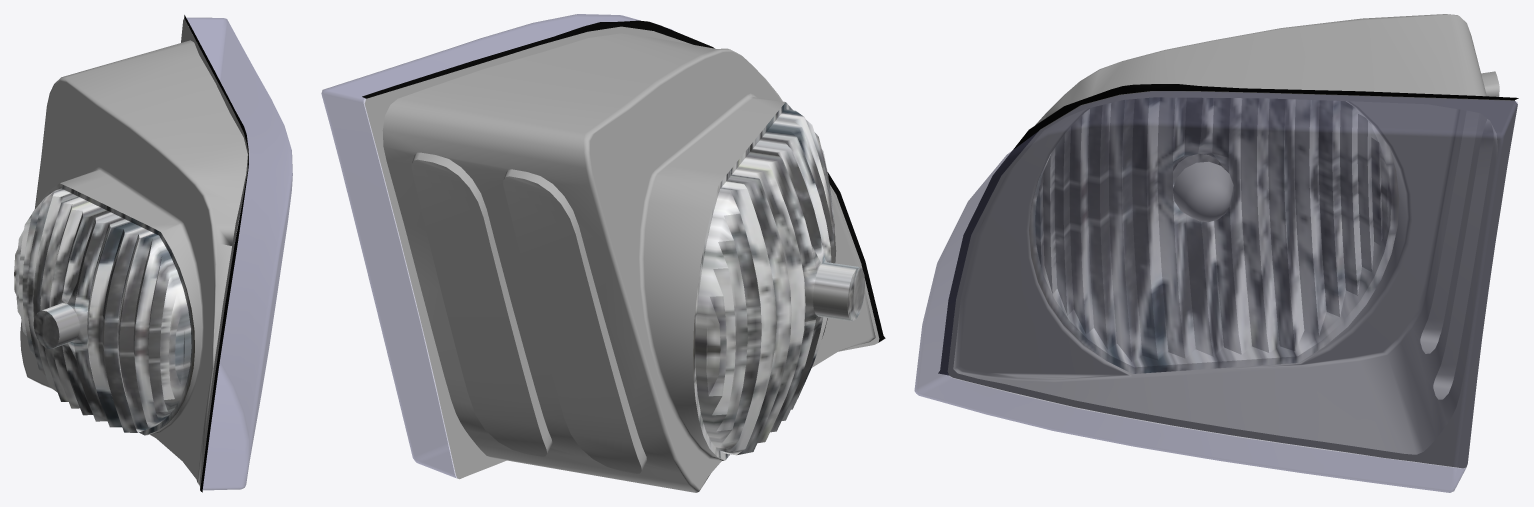
3 views of the same model, side by side, from view 1: azimuth 30°, elevation 25°; view 2: azimuth 150°, elevation 25°; view 3: azimuth 270°, elevation 25° (orthographic). The views are drawn at different scales.
Visible parts, largest first — view 1: P222_15_061B_R_P222_15_061B_R_2_N, P222_15_061B_R_P222_15_061B_R_3_N, P222_15_061B_R_1_DTaSI_P222_15_061B_R, P222_15_061B_R_P222_15_061B_R_5_D; view 2: P222_15_061B_R_P222_15_061B_R_2_N, P222_15_061B_R_P222_15_061B_R_3_N, P222_15_061B_R_1_DTaSI_P222_15_061B_R, P222_15_061B_R_P222_15_061B_R_5_D; view 3: P222_15_061B_R_1_DTaSI_P222_15_061B_R, P222_15_061B_R_P222_15_061B_R_2_N, P222_15_061B_R_P222_15_061B_R_3_N, P222_15_061B_R_P222_15_061B_R_5_D, P222_15_061B_R_P222_15_061B_R_4_N.
Boxes of the visible parts, x1,y1,x2,y2 form: P222_15_061B_R_P222_15_061B_R_2_N: (20, 18, 248, 489); P222_15_061B_R_P222_15_061B_R_3_N: (14, 183, 194, 435); P222_15_061B_R_1_DTaSI_P222_15_061B_R: (186, 17, 292, 490); P222_15_061B_R_P222_15_061B_R_5_D: (184, 15, 248, 492); P222_15_061B_R_P222_15_061B_R_2_N: (364, 26, 879, 492); P222_15_061B_R_P222_15_061B_R_3_N: (693, 102, 864, 460); P222_15_061B_R_1_DTaSI_P222_15_061B_R: (321, 14, 673, 477); P222_15_061B_R_P222_15_061B_R_5_D: (362, 20, 885, 342); P222_15_061B_R_1_DTaSI_P222_15_061B_R: (914, 91, 1517, 492); P222_15_061B_R_P222_15_061B_R_2_N: (947, 14, 1517, 468); P222_15_061B_R_P222_15_061B_R_3_N: (1029, 97, 1399, 373); P222_15_061B_R_P222_15_061B_R_5_D: (938, 84, 1518, 375); P222_15_061B_R_P222_15_061B_R_4_N: (1173, 162, 1233, 222).
Bounding box in the file's own units: 20.6 × 19.25 × 25.91.
